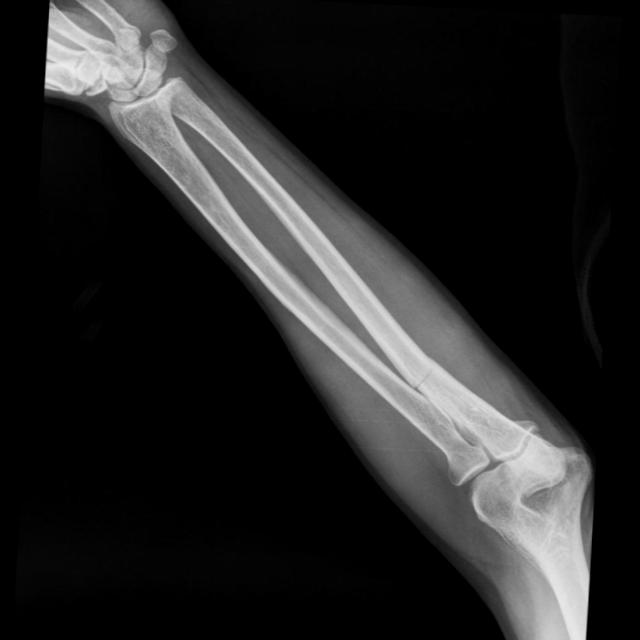Transverse Displaced: (398, 337, 466, 413)
